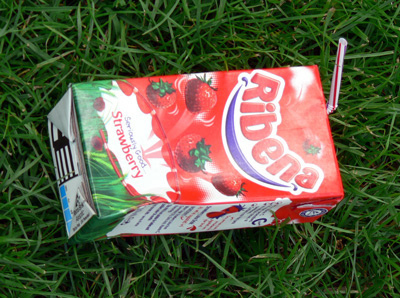litter: (45, 36, 347, 243)
